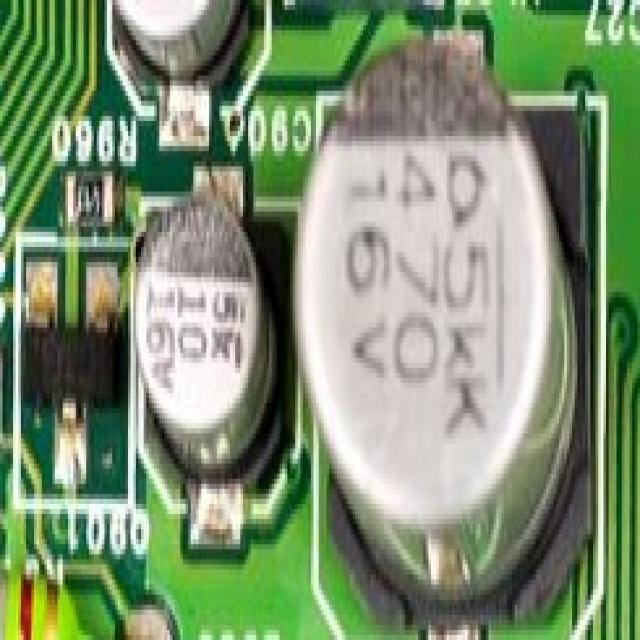4439: (19, 286, 126, 453)
capacitor 1V5: (291, 40, 588, 628), (137, 174, 276, 528)
resistor IR1: (70, 175, 120, 227)
